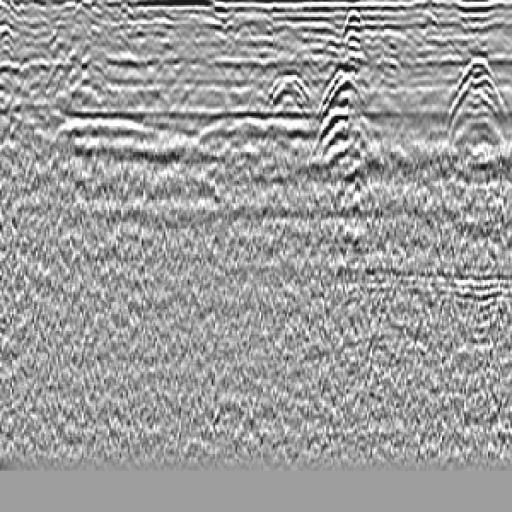metalic: (308, 31, 392, 209)
nonmetalic: (425, 39, 512, 164), (254, 50, 322, 127)
